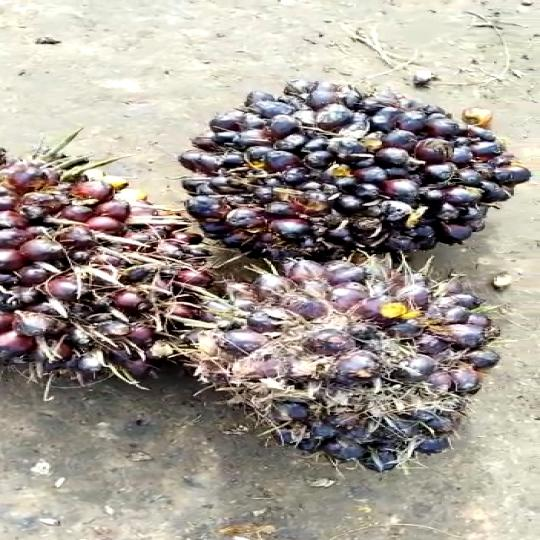kurang masak: (176, 236, 489, 490), (173, 85, 540, 252), (0, 141, 191, 386)
